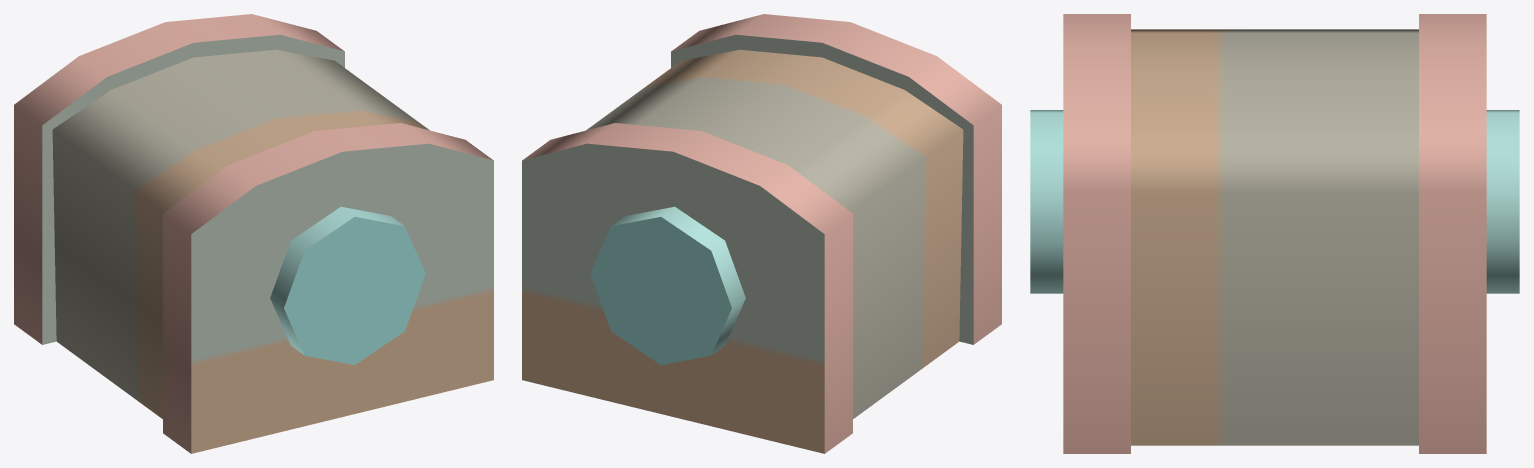
The model's file is axe_Base.fbx.
3 renders of one model, left to right at view 1: azimuth 30°, elevation 25°; view 2: azimuth 150°, elevation 25°; view 3: azimuth 270°, elevation 25°, orthographic. The views are drawn at different scales.
Parts seen in each view (by area): view 1: pCylinder2; view 2: pCylinder2; view 3: pCylinder2.
Part boxes in pixels (box(x1,y1,x2,y2)): pCylinder2: box(14, 14, 493, 453); pCylinder2: box(522, 14, 1001, 453); pCylinder2: box(1030, 14, 1519, 453).
Size of the model in its own units: 0.8532 by 0.715 by 1.
